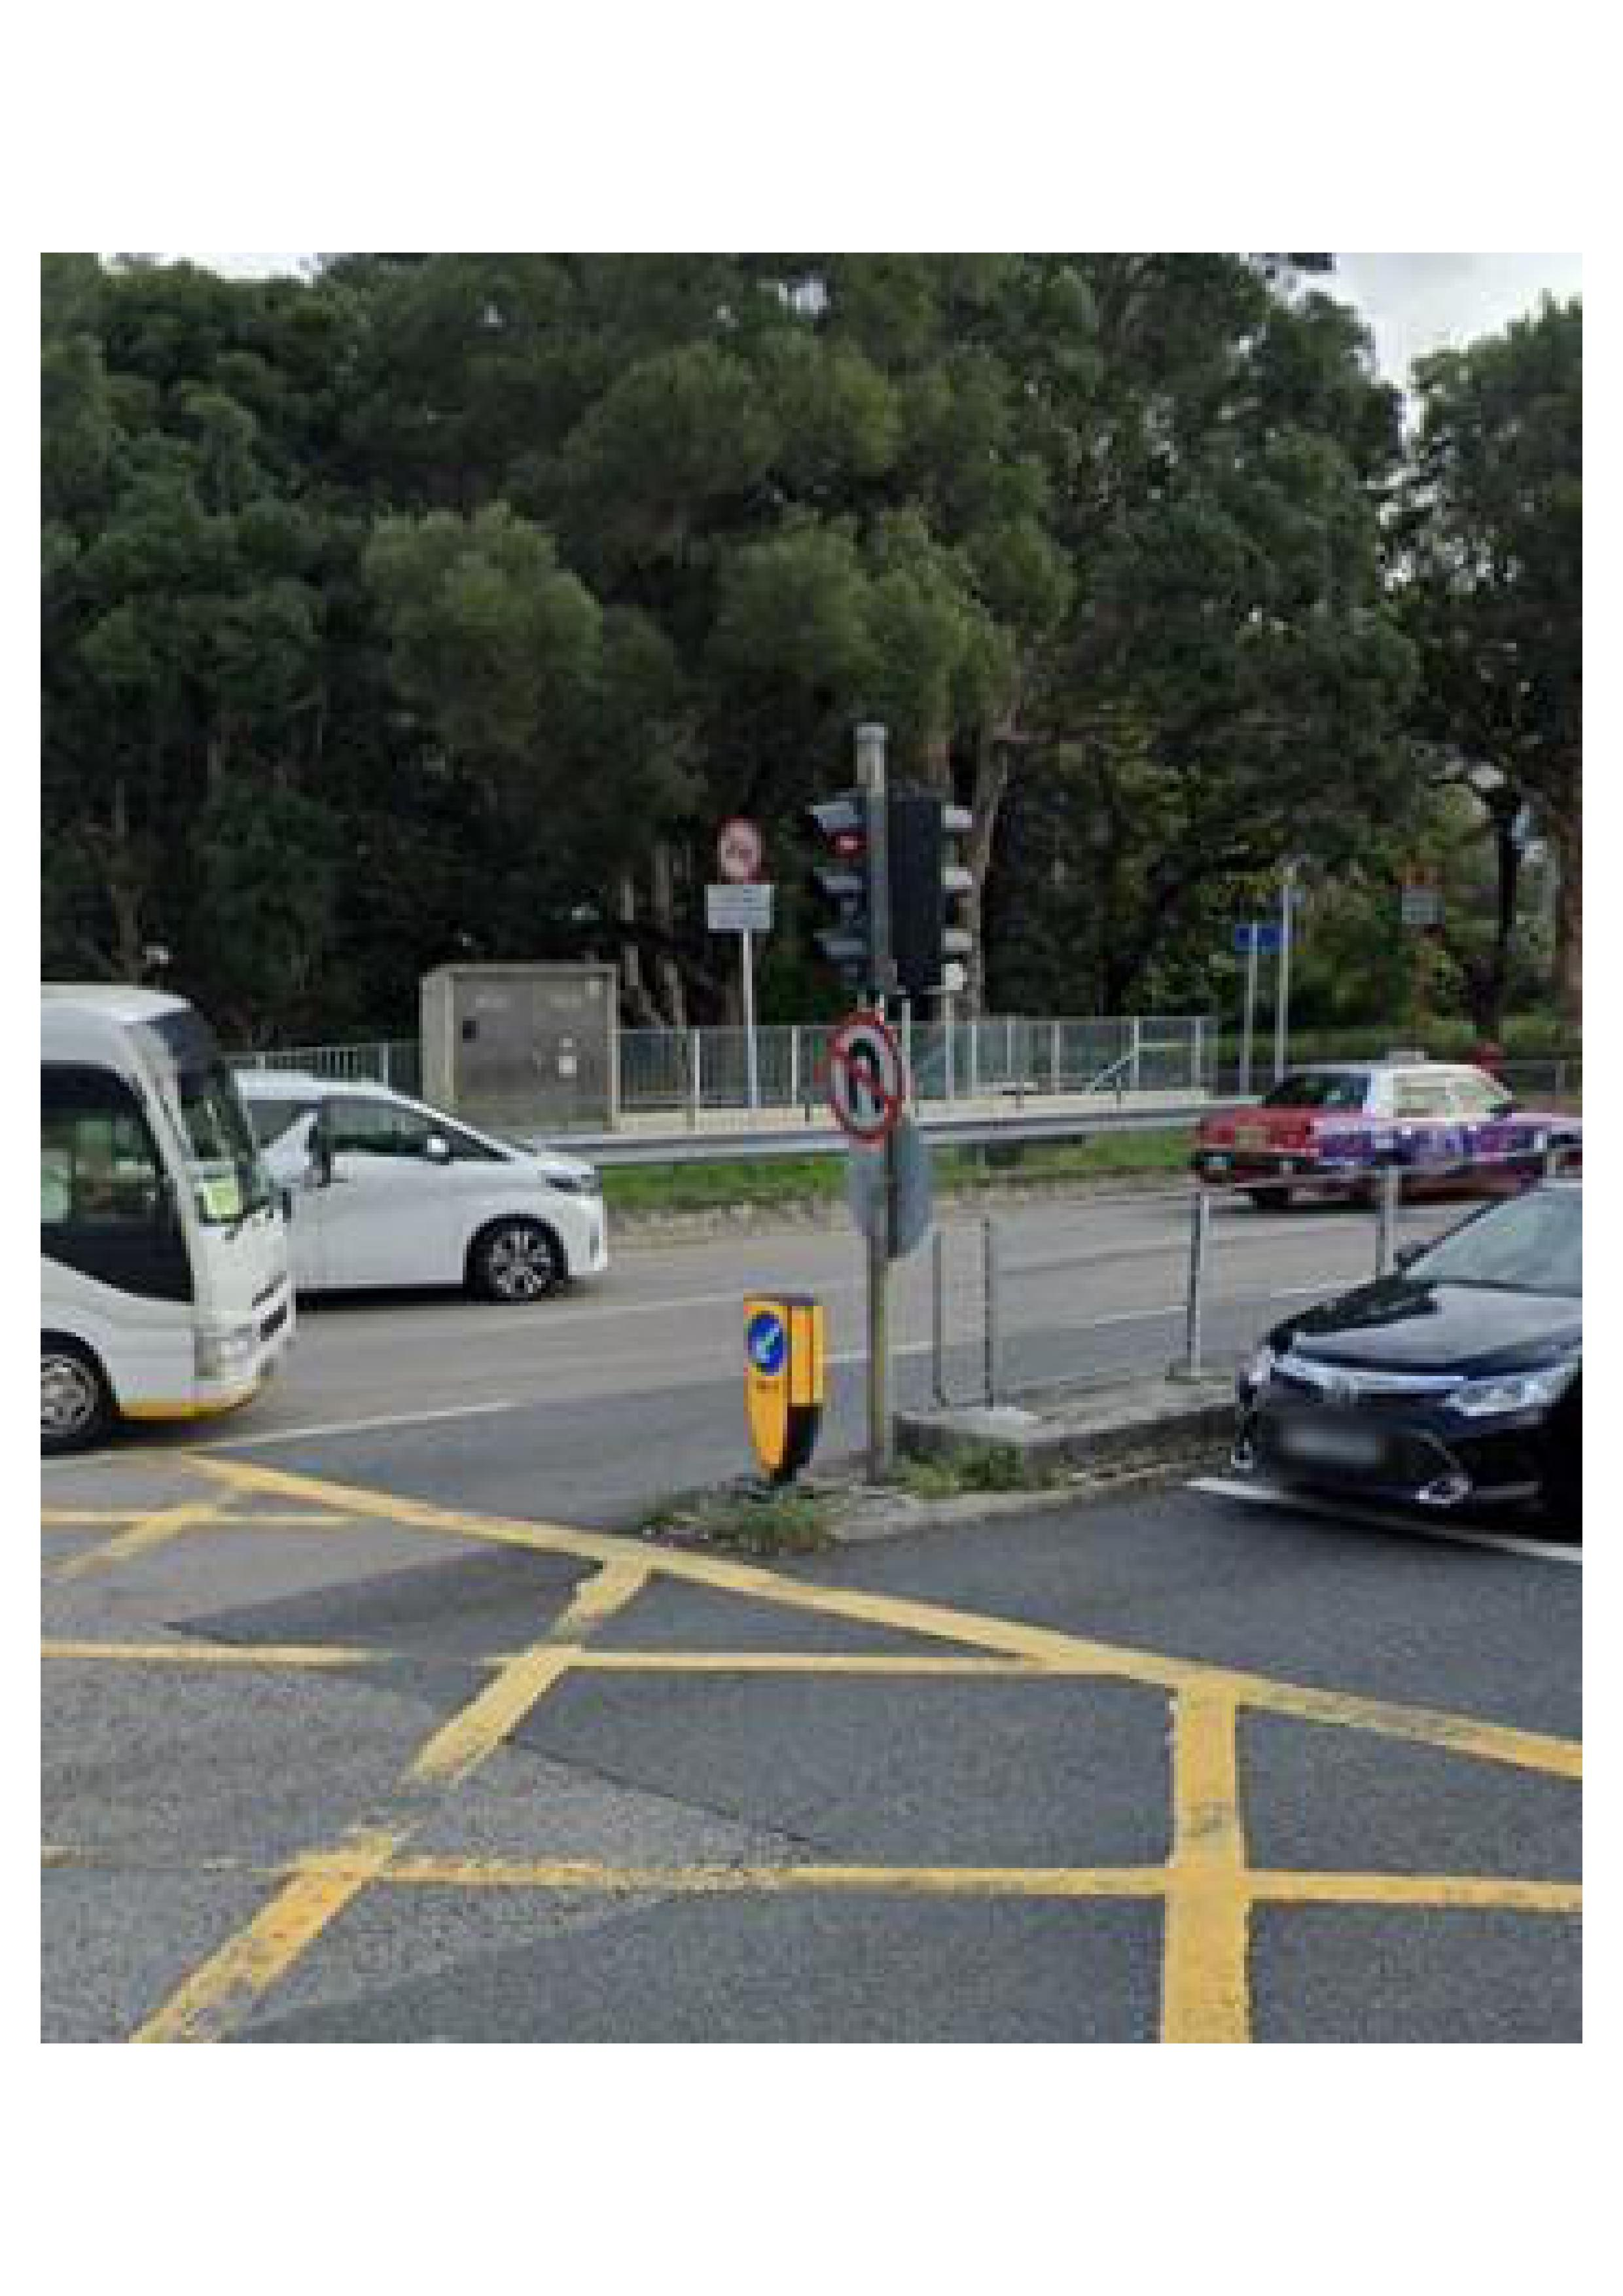No Uturn: (824, 1011, 913, 1148)
